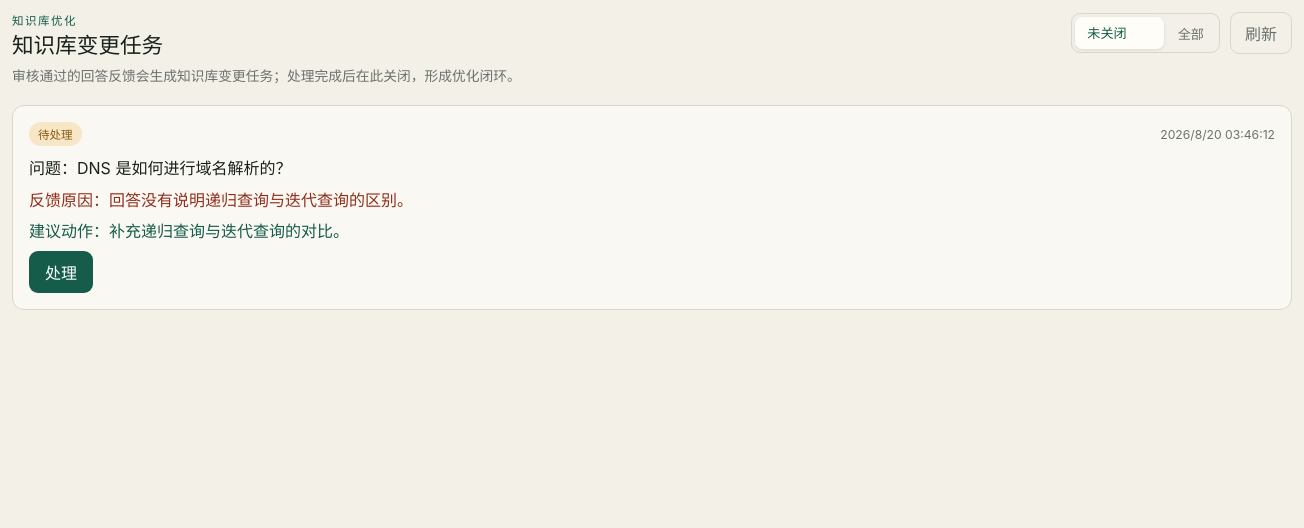
it: KnowledgeBaseChanges › shows the real status instead of a hard-coded label
expect the text "待处理" is shown: met, box [29,122,82,146]
Click the button "全部": (1191, 33) [1166,17,1216,49]
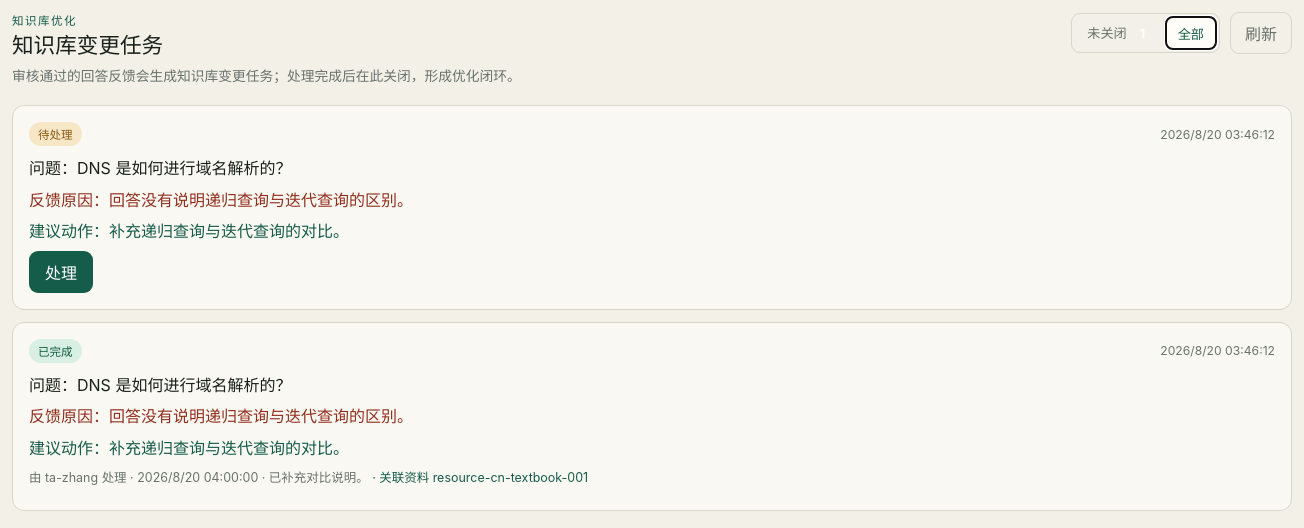
expect the text "已完成" is shown: met, box [29,339,82,363]
expect the text "由 ta-zhang 处理" is shown: met, box [29,470,588,485]
